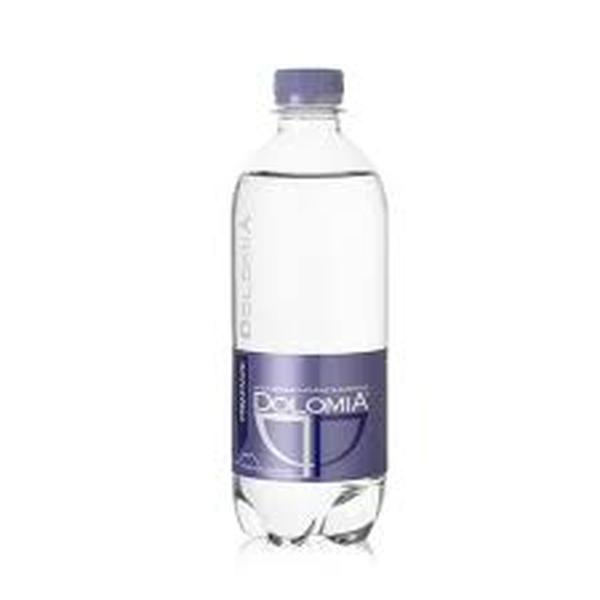tutuma: (222, 57, 407, 553)
